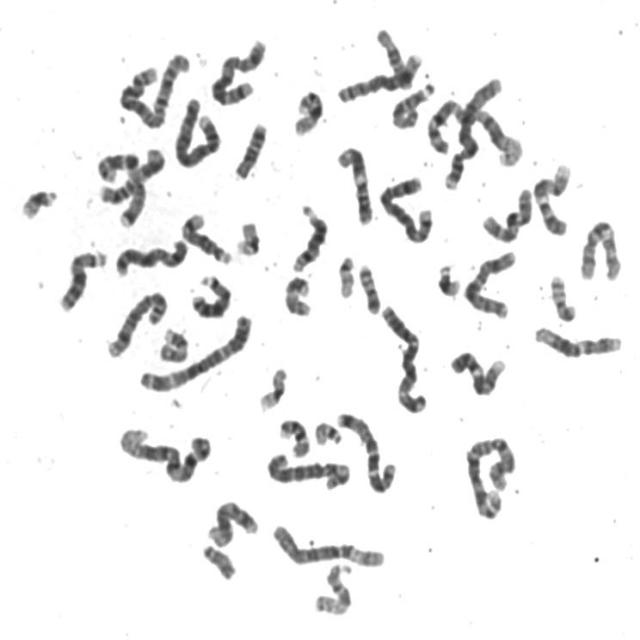A1: (423, 94, 525, 168), (114, 422, 215, 486)
A2: (114, 45, 194, 131), (462, 431, 520, 522)
A3: (136, 306, 256, 394), (378, 300, 430, 415)
B4: (440, 72, 505, 192), (170, 91, 224, 171)
B5: (207, 32, 270, 107), (374, 171, 436, 245)
C10: (478, 180, 536, 244), (576, 213, 626, 283)
C11: (94, 141, 168, 206), (333, 140, 376, 228)
C12: (530, 320, 625, 358), (204, 495, 260, 549)
C6: (267, 518, 388, 570), (264, 447, 353, 492)
C7: (332, 406, 399, 495), (94, 146, 150, 230)
C8: (334, 47, 425, 105), (103, 285, 171, 360)
C9: (530, 157, 575, 237), (446, 345, 509, 398)
D13: (55, 244, 110, 314), (188, 268, 234, 320)
D14: (177, 206, 235, 266), (287, 200, 331, 274)
D15: (388, 76, 438, 130), (311, 558, 355, 618)
E16: (290, 84, 327, 138), (276, 412, 312, 458)
E17: (280, 270, 315, 318), (156, 322, 192, 364)
E18: (364, 27, 414, 91), (231, 116, 270, 181)
F19: (254, 360, 290, 412), (233, 215, 263, 258)
F20: (546, 268, 580, 324), (354, 258, 384, 316)
G21: (17, 182, 61, 222), (434, 258, 464, 300)
G22: (334, 250, 358, 300), (310, 416, 346, 448)
X: (460, 245, 520, 320), (111, 233, 191, 280)
Y: (199, 539, 239, 582)
